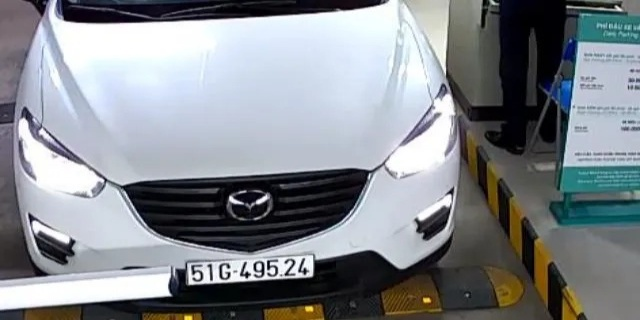bien_so: (186, 257, 312, 284)
